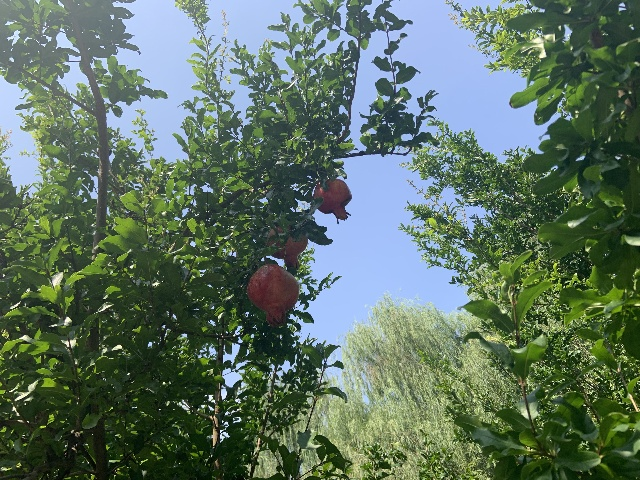ripe: (246, 263, 299, 327), (267, 226, 307, 268), (313, 179, 352, 219)
